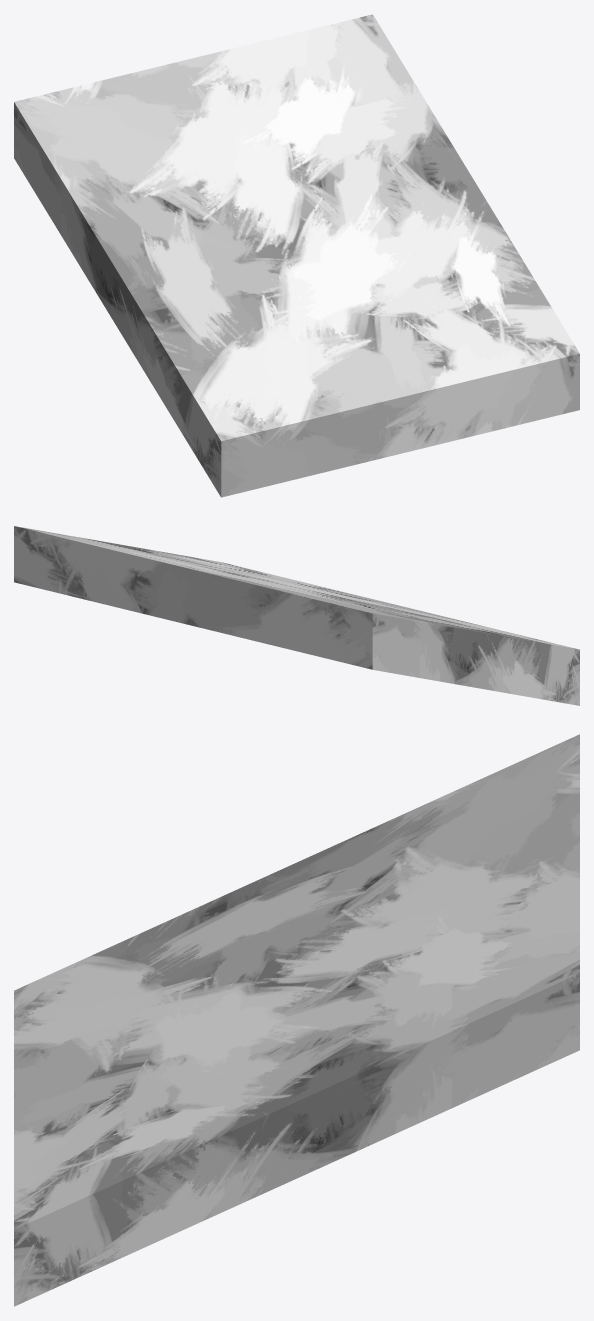
File: Village_Clay_1m_Roof_C.fbx
3 renders of one model, top to bottom at view 1: azimuth 30°, elevation 25°; view 2: azimuth 150°, elevation 25°; view 3: azimuth 270°, elevation 25°, orthographic. The views are drawn at different scales.
Parts seen in each view (by area): view 1: Village_Wall_2m_Roof_A.231; view 2: Village_Wall_2m_Roof_A.231; view 3: Village_Wall_2m_Roof_A.231.
Boxes of the visible parts, x1=… form: Village_Wall_2m_Roof_A.231: x1=14, y1=14, x2=579, y2=497; Village_Wall_2m_Roof_A.231: x1=14, y1=526, x2=579, y2=705; Village_Wall_2m_Roof_A.231: x1=14, y1=734, x2=579, y2=1306.
Bounding box in the file's own units: 100 × 65 × 100.
